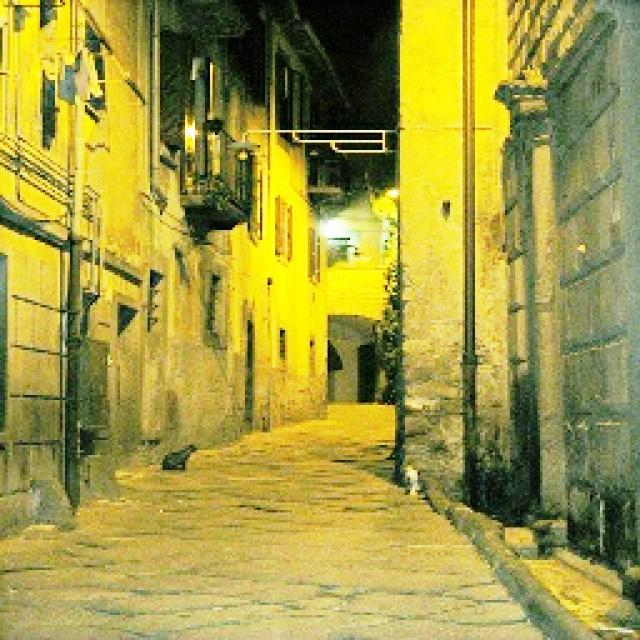cat: (162, 444, 200, 470), (406, 459, 422, 500)
